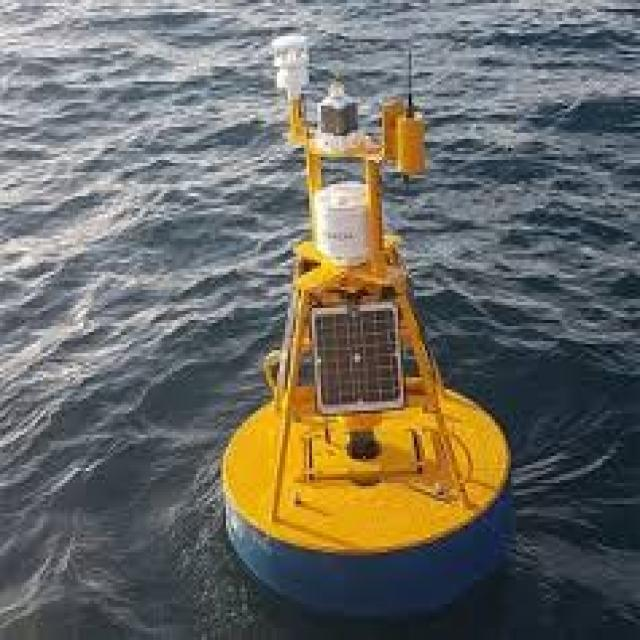buoy: (209, 20, 514, 618)
